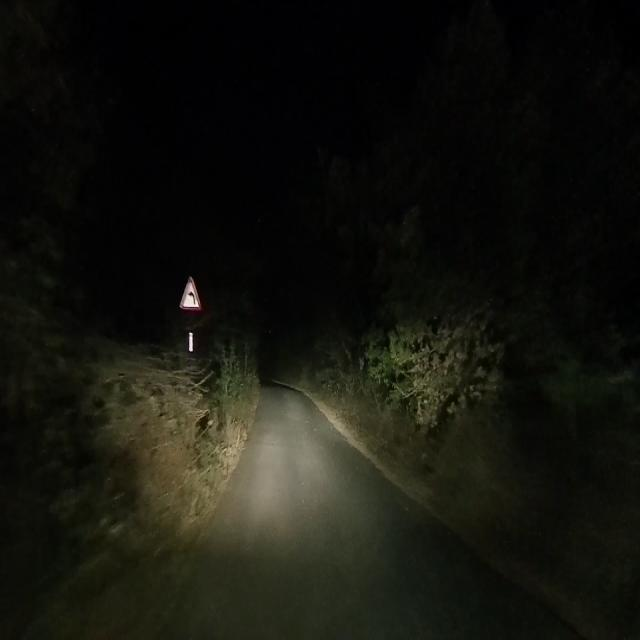left-hand-curve: (179, 274, 200, 310)
